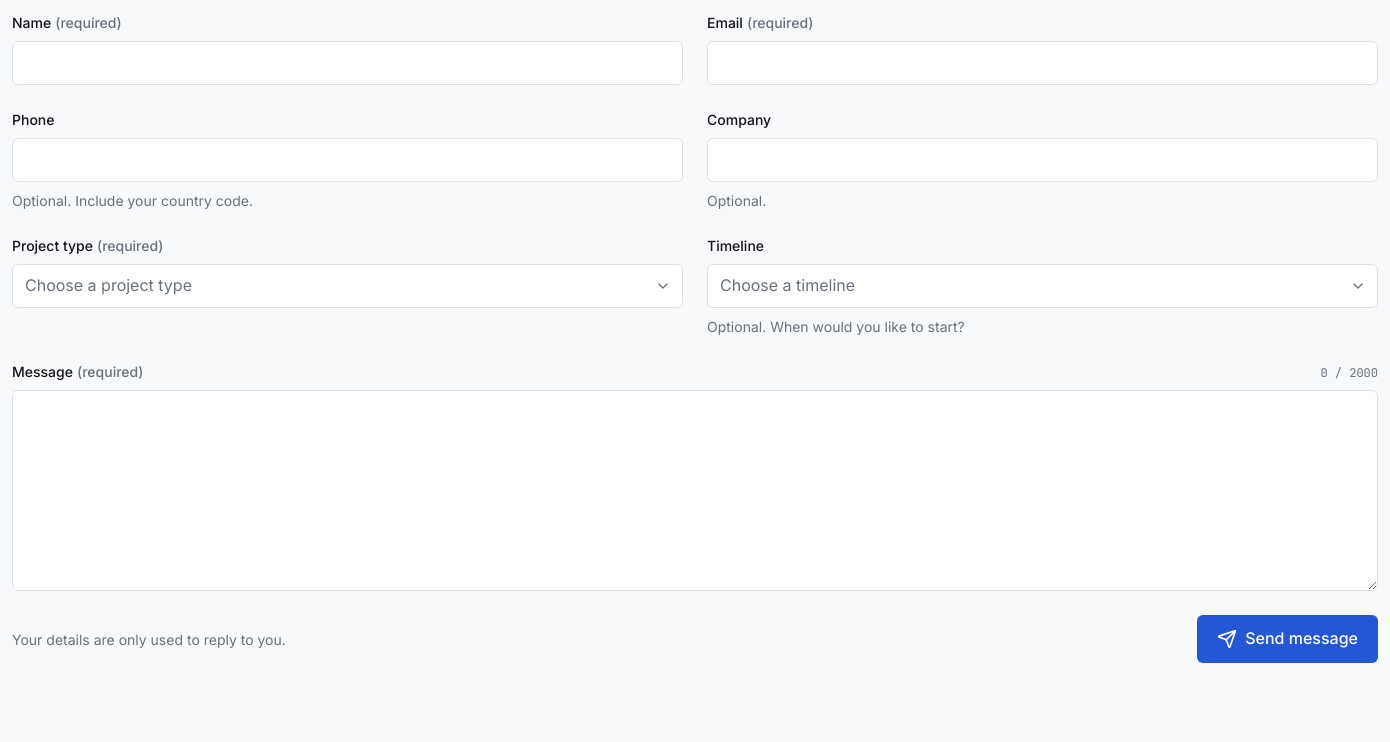
it: ContactForm › asks for a budget only for paid project work
Expected: the dropdown labelled "Budget" is not shown
Select "Freelance" in the dropdown labelled "Project type(required)". click: (348, 286)
box: [12,264,683,308]
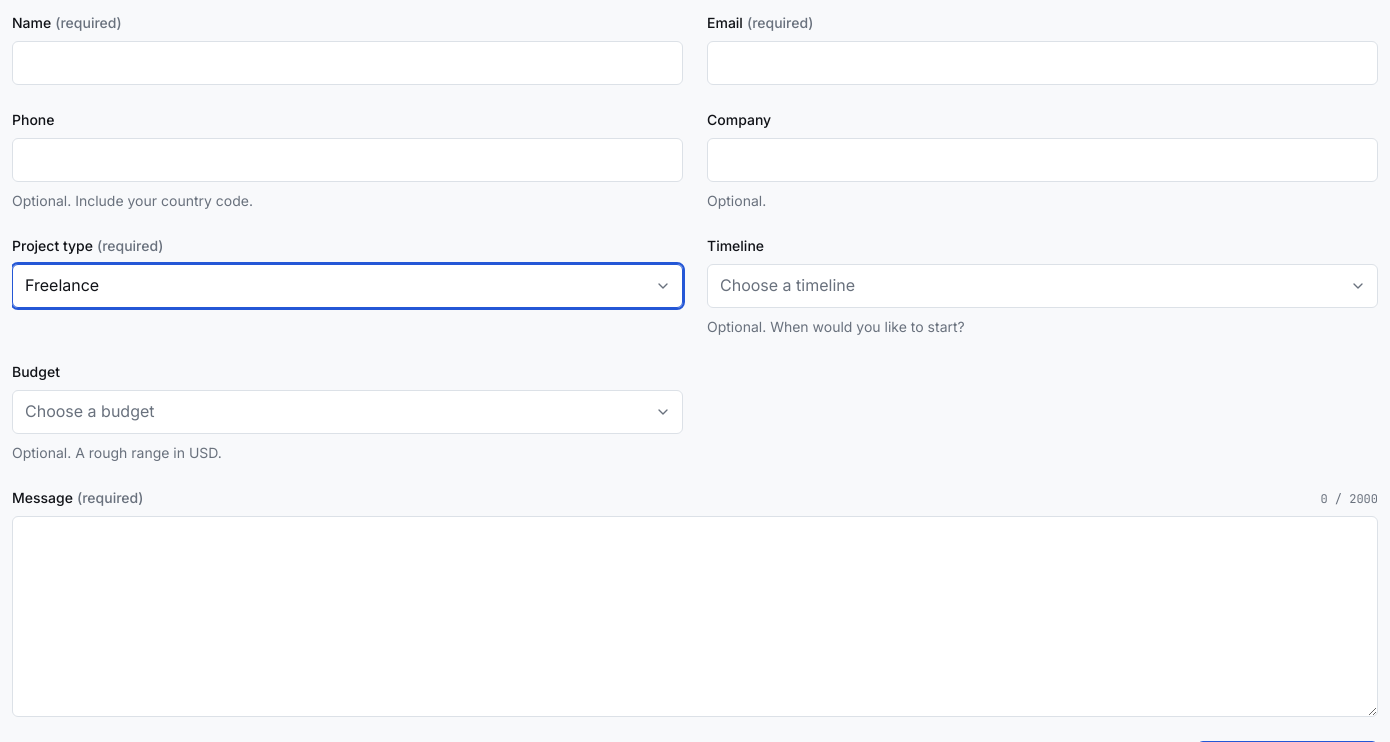
Expected: the dropdown labelled "Budget" is shown, [12,390,683,434]
Select "Full-Time Opportunity" in the dropdown labelled "Project type(required)". click: (348, 286)
box: [12,264,683,308]
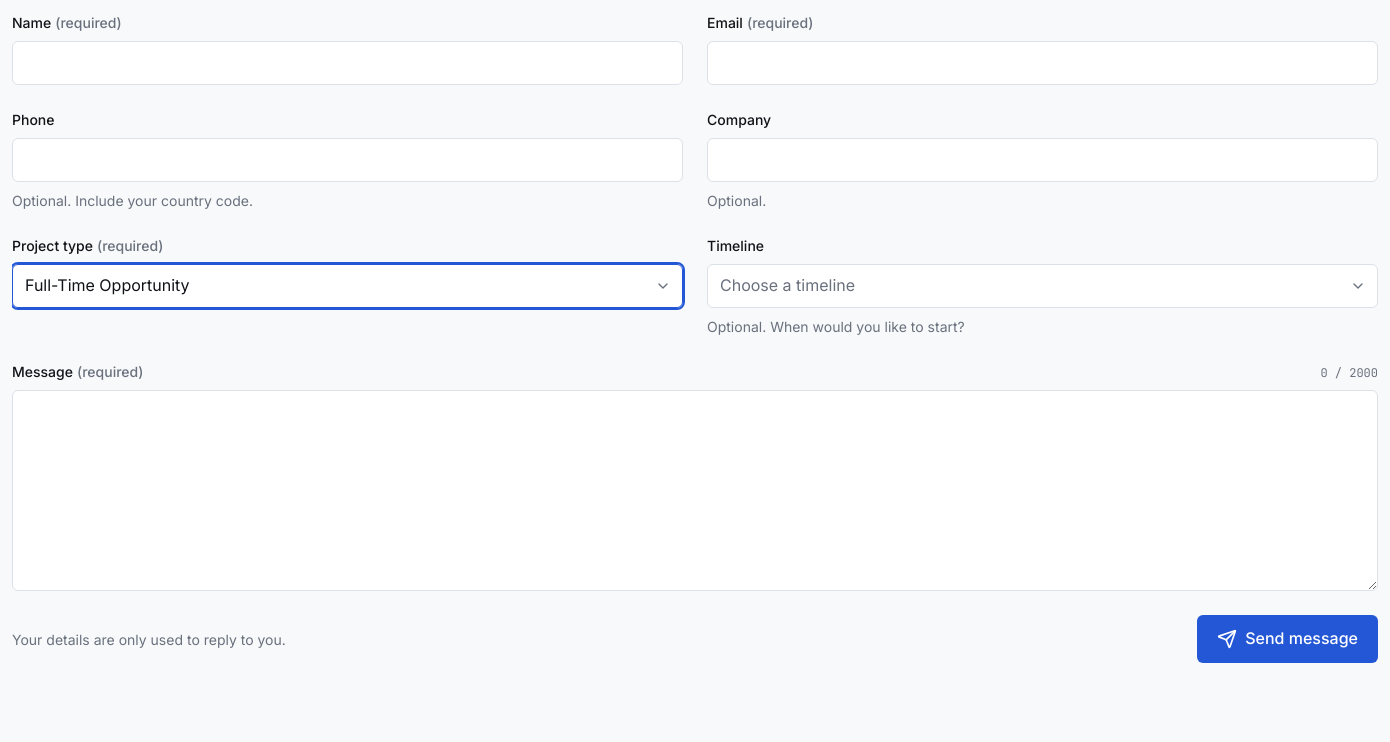
Expected: the label "Budget" is gone
